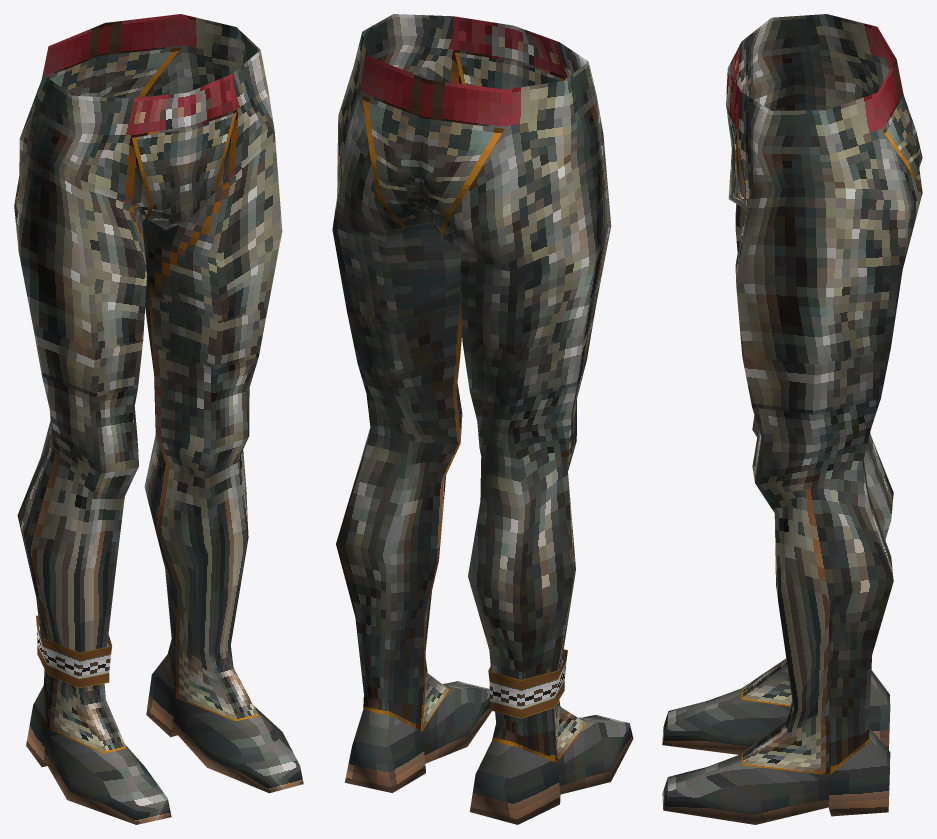
The model's file is m_legging113.obj.
3 views of the same model, side by side, from view 1: azimuth 30°, elevation 25°; view 2: azimuth 150°, elevation 25°; view 3: azimuth 270°, elevation 25° (orthographic). The views are drawn at different scales.
Visible parts, largest first — view 1: mesh00, mesh01; view 2: mesh00, mesh01; view 3: mesh00.
Part boxes in pixels (left/top/right/bottom): mesh00: left=14, top=14, right=303, bottom=824; mesh01: left=37, top=625, right=110, bottom=678; mesh00: left=332, top=14, right=633, bottom=824; mesh01: left=489, top=659, right=566, bottom=709; mesh00: left=662, top=14, right=922, bottom=824.
Size of the model in its own units: 39.97 by 108 by 35.63.
Materials: 2 (2 with a texture image).
